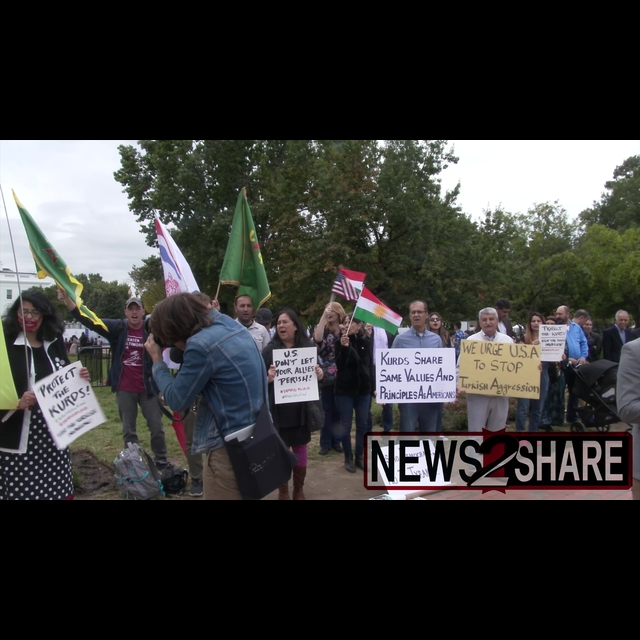IBKY: (352, 283, 404, 337)
